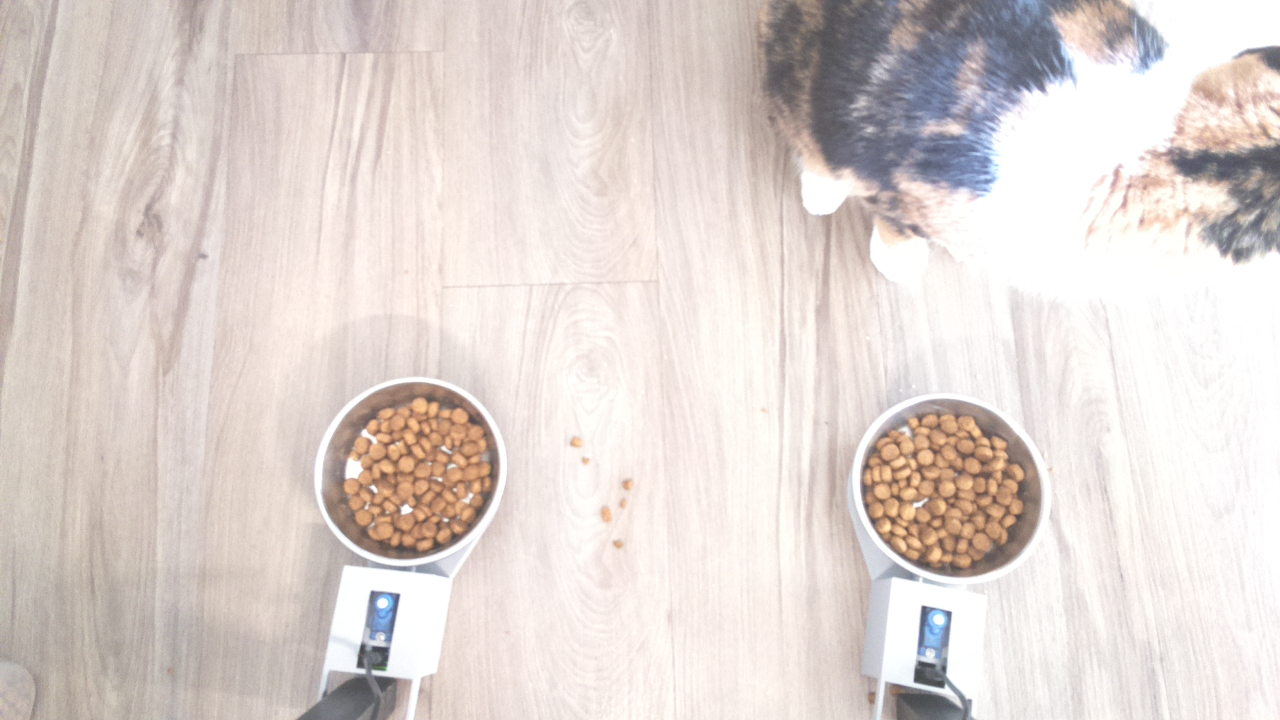bella: (1087, 52, 1280, 276)
open_bowl: (312, 377, 515, 566), (847, 391, 1047, 576)
